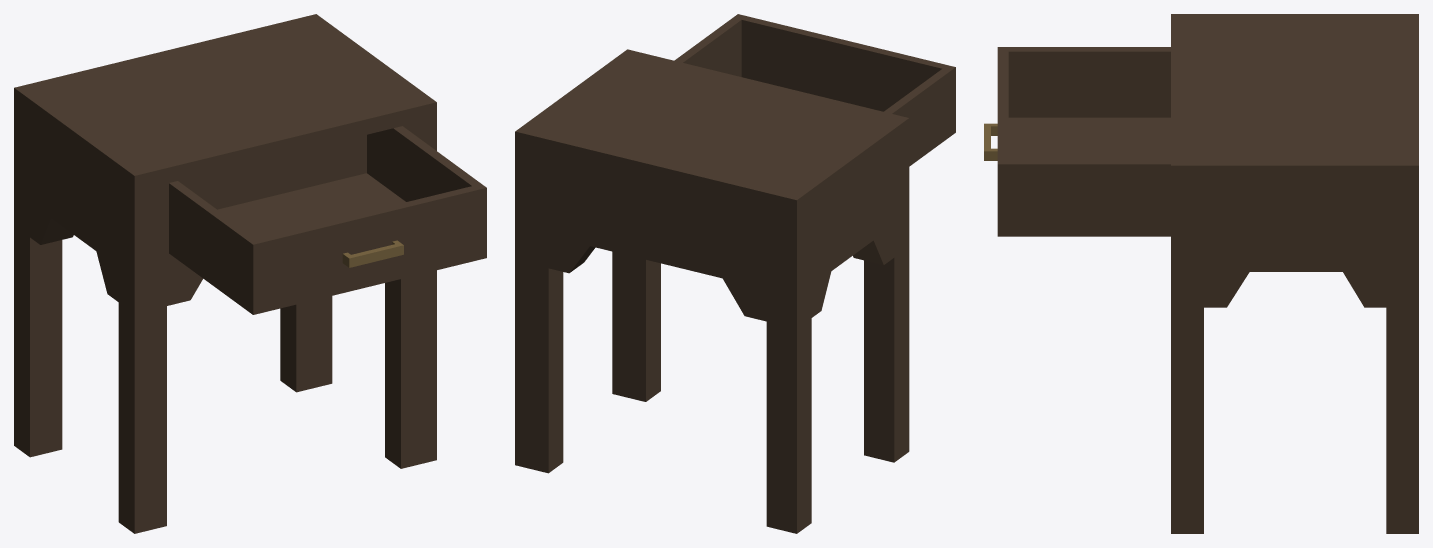
The model's file is meja kecil terbuka.fbx.
3 renders of one model, left to right at view 1: azimuth 30°, elevation 25°; view 2: azimuth 150°, elevation 25°; view 3: azimuth 270°, elevation 25°, orthographic. The views are drawn at different scales.
Visible parts, largest first — view 1: Cube, Cube.001, Cube.002; view 2: Cube, Cube.001; view 3: Cube, Cube.001.
Part boxes in pixels (x1,y1,x2,y2): Cube: (14, 14, 436, 533); Cube.001: (169, 126, 486, 314); Cube.002: (342, 240, 403, 267); Cube: (515, 49, 909, 533); Cube.001: (674, 14, 955, 166); Cube: (1171, 14, 1418, 533); Cube.001: (997, 47, 1170, 236).
Size of the model in its own units: 290 by 328 by 351.
